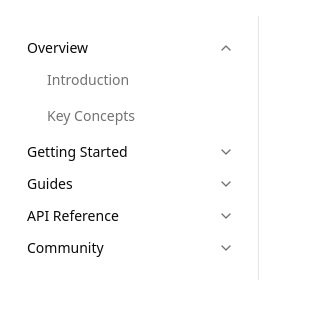
Sidebar Component › should expand/collapse accordion when section title is clicked
This screenshot has width=320, height=333.
Expected: the link "Introduction" is shown, x1=47 y1=70 x2=129 y2=89
Expected: the link "Installation" is not shown
Click the button "Getting Started": (130, 152) x1=19 y1=136 x2=242 y2=168
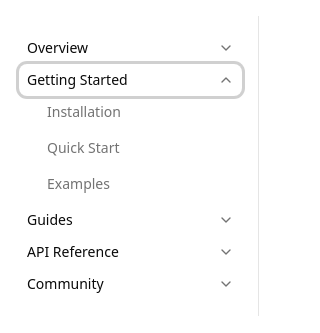
Now the link "Installation" is shown, box x1=47 y1=102 x2=121 y2=121
Now the link "Introduction" is gone
Click the button "Overview": (130, 48) x1=19 y1=32 x2=242 y2=64
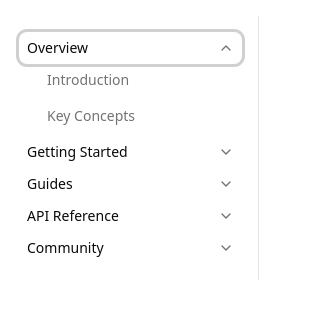
Now the link "Introduction" is shown, box x1=47 y1=70 x2=129 y2=89
Now the link "Installation" is gone
Click the button "Overview": (130, 48) x1=19 y1=32 x2=242 y2=64
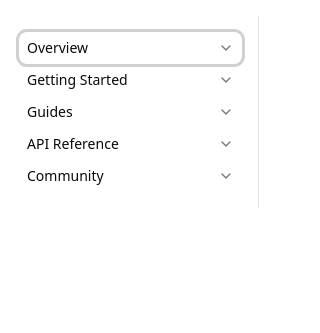
Now the link "Introduction" is gone
